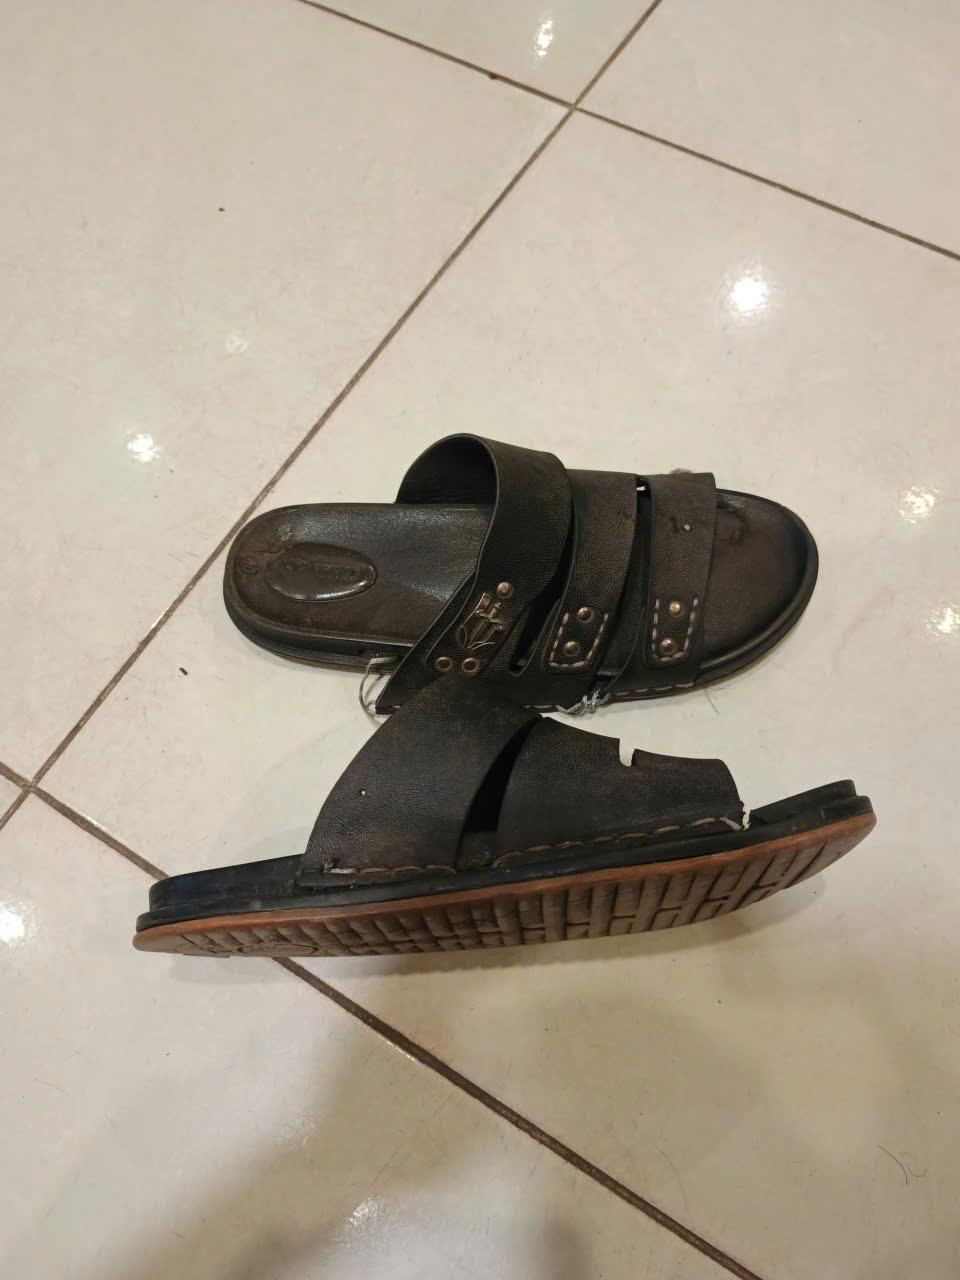Con lai: (132, 693, 886, 963), (220, 428, 816, 715)
